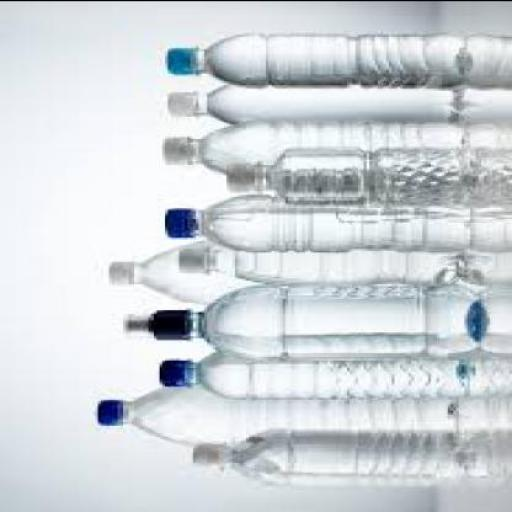plastic: (120, 281, 484, 354), (95, 382, 459, 443), (224, 145, 510, 216), (159, 118, 467, 176), (163, 193, 475, 250), (176, 236, 473, 294), (187, 424, 473, 482), (165, 30, 468, 84), (157, 350, 469, 398), (162, 80, 464, 123), (106, 237, 269, 303), (126, 305, 193, 337), (160, 43, 202, 73), (221, 158, 260, 190), (162, 205, 199, 234), (156, 356, 194, 384), (154, 135, 193, 162), (159, 89, 199, 114), (190, 439, 221, 469), (92, 396, 123, 425), (179, 242, 210, 270), (110, 256, 136, 282)
